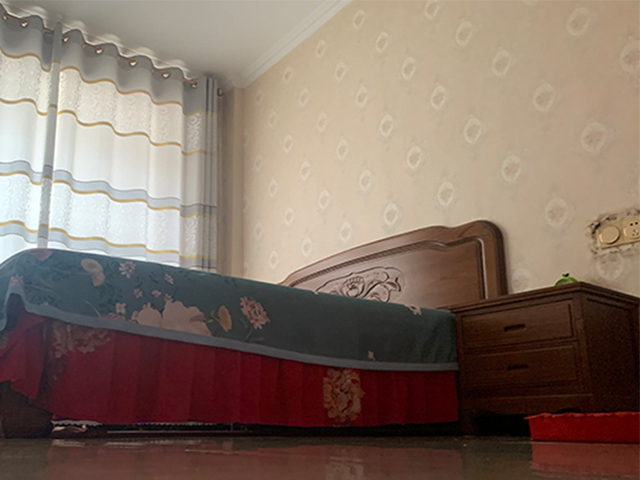bed: (1, 219, 509, 440)
cabinet: (447, 281, 640, 438)
curtain: (5, 9, 223, 269)
